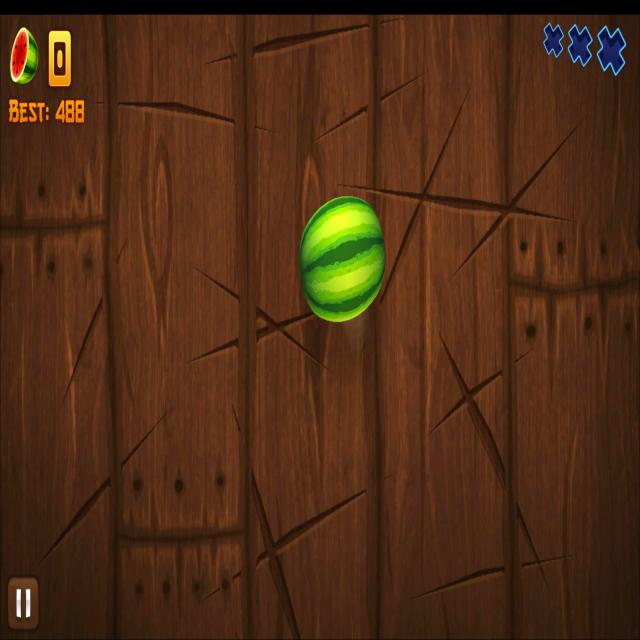fruit: (297, 193, 387, 326)
